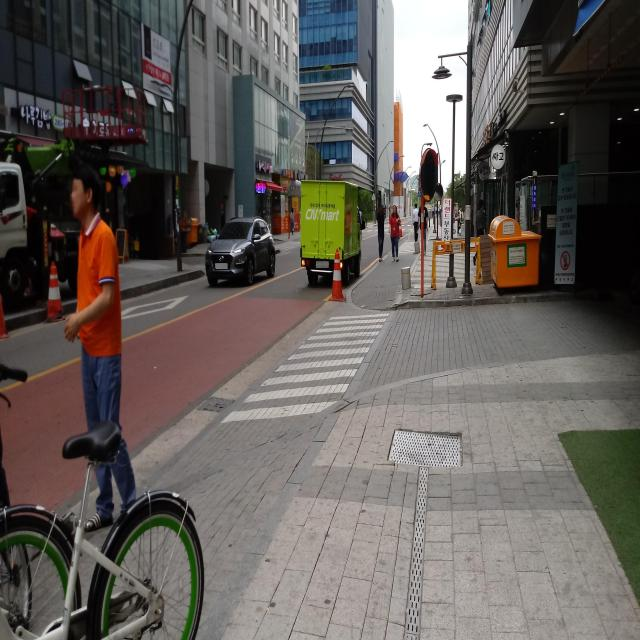횡단보도: (220, 310, 392, 426)
